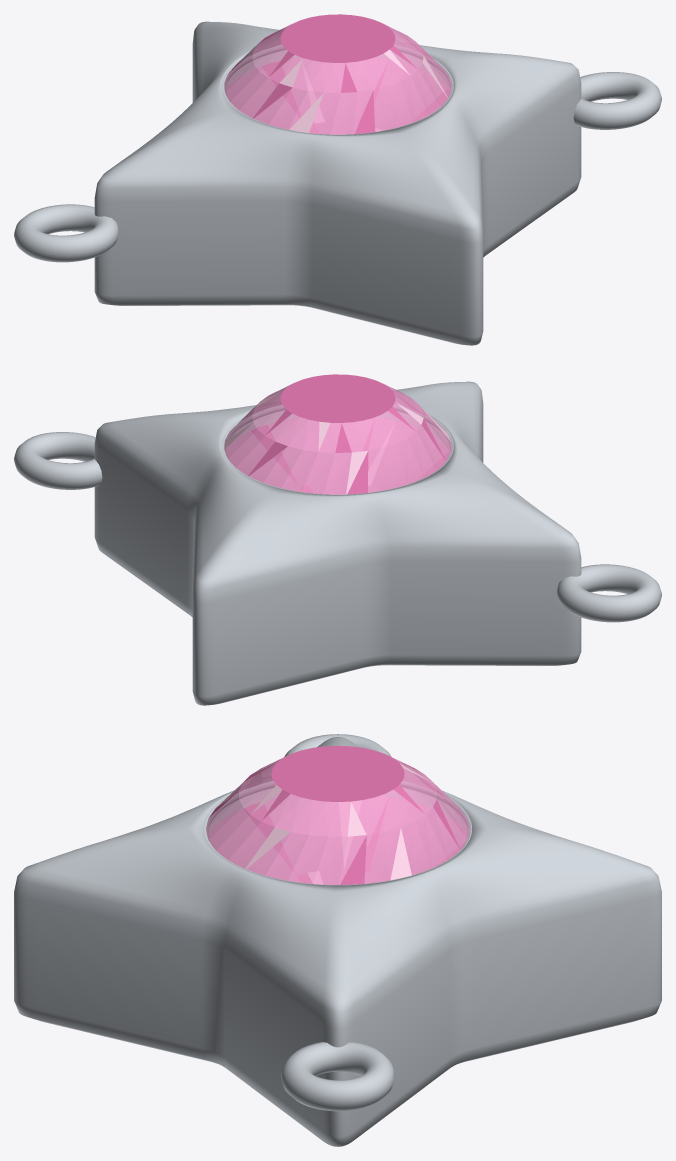
File: sapphire-star.glb
3 views of the same model, one above another, from view 1: azimuth 30°, elevation 25°; view 2: azimuth 150°, elevation 25°; view 3: azimuth 270°, elevation 25° (orthographic). The views are drawn at different scales.
Parts seen in each view (by area): view 1: Pink four-point star · concave finished setting, Pink four-point star · round rose brilliant, Pink four-point star · terminal eye, Pink four-point star · terminal eye.001, Pink four-point star · continuous setting lip; view 2: Pink four-point star · concave finished setting, Pink four-point star · round rose brilliant, Pink four-point star · terminal eye, Pink four-point star · terminal eye.001, Pink four-point star · continuous setting lip; view 3: Pink four-point star · concave finished setting, Pink four-point star · round rose brilliant, Pink four-point star · terminal eye.001, Pink four-point star · continuous setting lip, Pink four-point star · terminal eye.
Part boxes in pixels (x1,y1,x2,y2): Pink four-point star · concave finished setting: (94, 21, 581, 345); Pink four-point star · round rose brilliant: (224, 14, 451, 134); Pink four-point star · terminal eye: (14, 204, 119, 262); Pink four-point star · terminal eye.001: (573, 72, 661, 129); Pink four-point star · continuous setting lip: (222, 44, 453, 134); Pink four-point star · concave finished setting: (94, 381, 581, 705); Pink four-point star · round rose brilliant: (224, 374, 451, 494); Pink four-point star · terminal eye: (556, 564, 661, 622); Pink four-point star · terminal eye.001: (14, 432, 102, 489); Pink four-point star · continuous setting lip: (222, 404, 453, 494); Pink four-point star · concave finished setting: (14, 737, 661, 1146); Pink four-point star · round rose brilliant: (206, 745, 469, 884); Pink four-point star · terminal eye.001: (281, 1042, 394, 1111); Pink four-point star · continuous setting lip: (204, 781, 471, 885); Pink four-point star · terminal eye: (284, 734, 391, 756).
Size of the model in its own units: 0.00656 by 0.00207 by 0.005.
